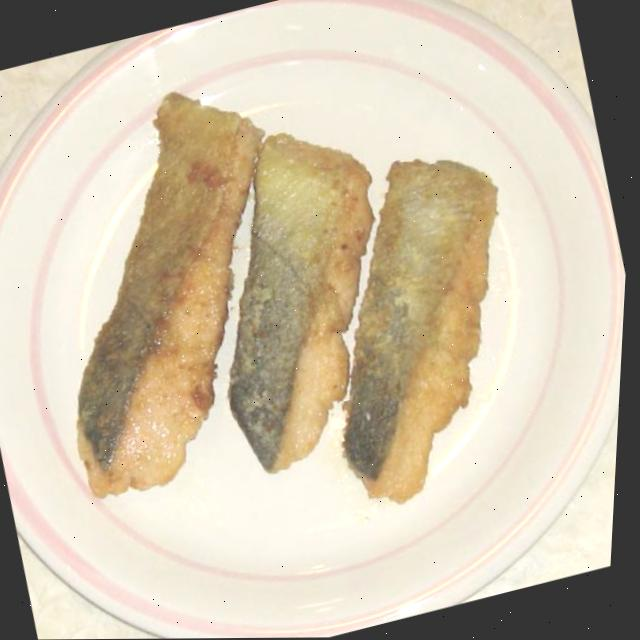熟制海鲜: (0, 26, 570, 588)
